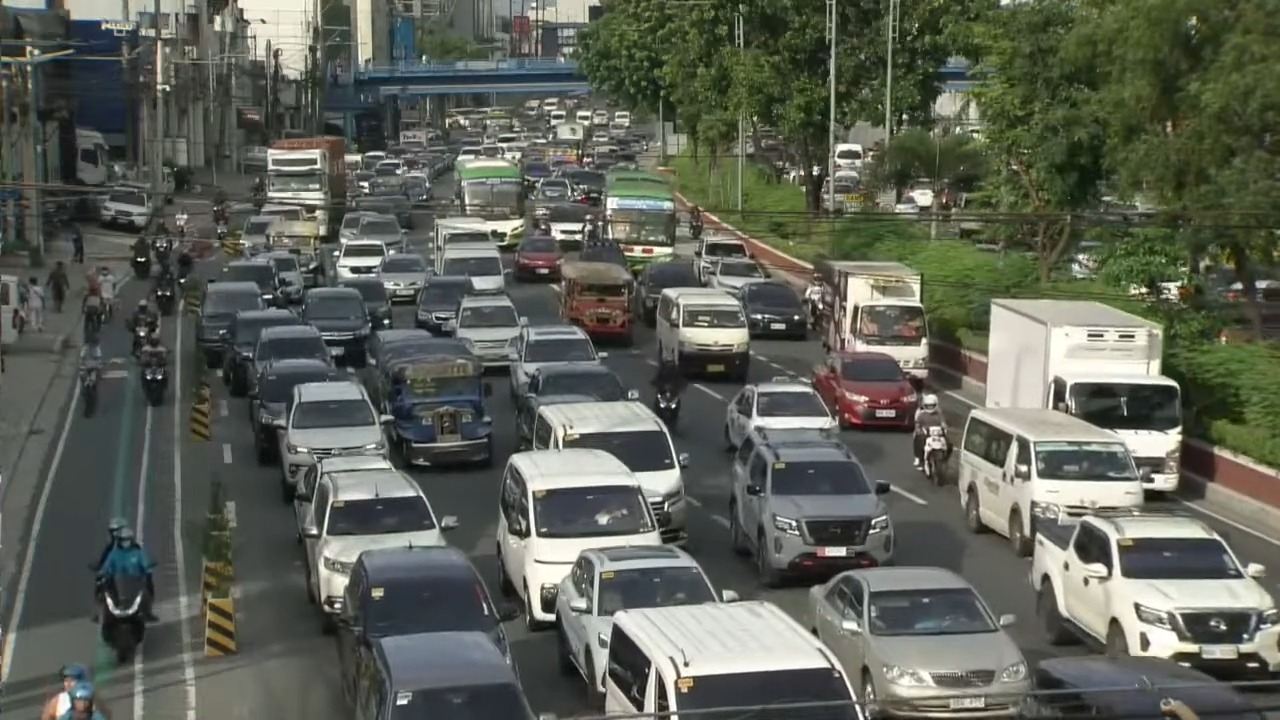bus: (603, 178, 677, 270), (454, 158, 525, 246), (606, 170, 669, 191)
car: (1029, 502, 1279, 676), (808, 567, 1031, 717), (496, 448, 661, 630), (556, 546, 738, 695), (337, 545, 517, 692), (728, 430, 894, 586), (301, 469, 457, 629), (348, 633, 535, 719), (1033, 655, 1268, 719), (277, 381, 388, 502), (516, 363, 639, 447), (249, 357, 345, 464), (293, 454, 394, 543), (812, 352, 917, 429), (724, 377, 836, 448), (509, 324, 606, 399), (221, 308, 301, 396), (243, 324, 332, 393), (195, 282, 265, 368), (299, 287, 370, 367), (453, 296, 522, 366), (632, 259, 700, 327), (516, 394, 597, 449), (522, 363, 638, 401), (737, 280, 807, 339), (436, 243, 509, 293), (415, 275, 475, 335), (352, 177, 412, 229), (217, 259, 282, 305), (366, 328, 439, 367), (338, 277, 391, 330), (694, 235, 751, 284), (535, 201, 588, 250), (259, 251, 308, 304), (376, 253, 428, 302), (334, 238, 391, 280), (100, 188, 152, 231), (513, 235, 562, 280), (707, 260, 767, 291), (352, 212, 404, 247), (558, 168, 605, 204), (577, 239, 628, 268), (241, 216, 276, 254), (339, 210, 373, 242), (533, 177, 574, 201), (521, 154, 551, 184), (258, 203, 306, 220), (404, 172, 429, 203), (373, 160, 404, 177), (353, 170, 374, 192), (591, 110, 608, 125)
motorcycle: (100, 574, 146, 664), (921, 426, 949, 486), (654, 388, 680, 429), (142, 364, 166, 406), (80, 367, 99, 417), (131, 323, 155, 357), (154, 285, 175, 315), (152, 238, 172, 265), (132, 252, 151, 278), (215, 221, 229, 242), (689, 220, 703, 240), (252, 190, 265, 210)
truck: (1029, 508, 1279, 674), (986, 298, 1182, 491), (817, 261, 928, 382), (267, 136, 345, 238), (433, 216, 495, 271), (554, 123, 585, 142)
